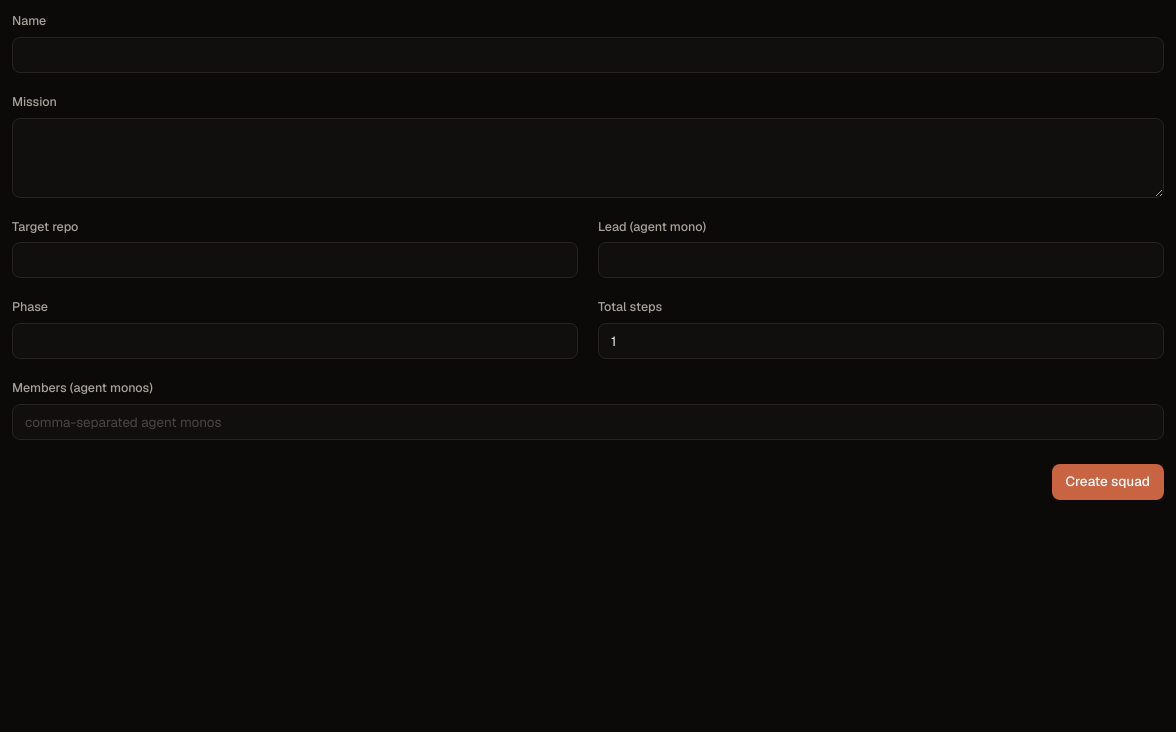
Test: SquadForm › blocks submission and shows an error when a required field is empty
Type "A mission." into the text box labelled "Mission" at (588, 158), box [12, 118, 1164, 198]
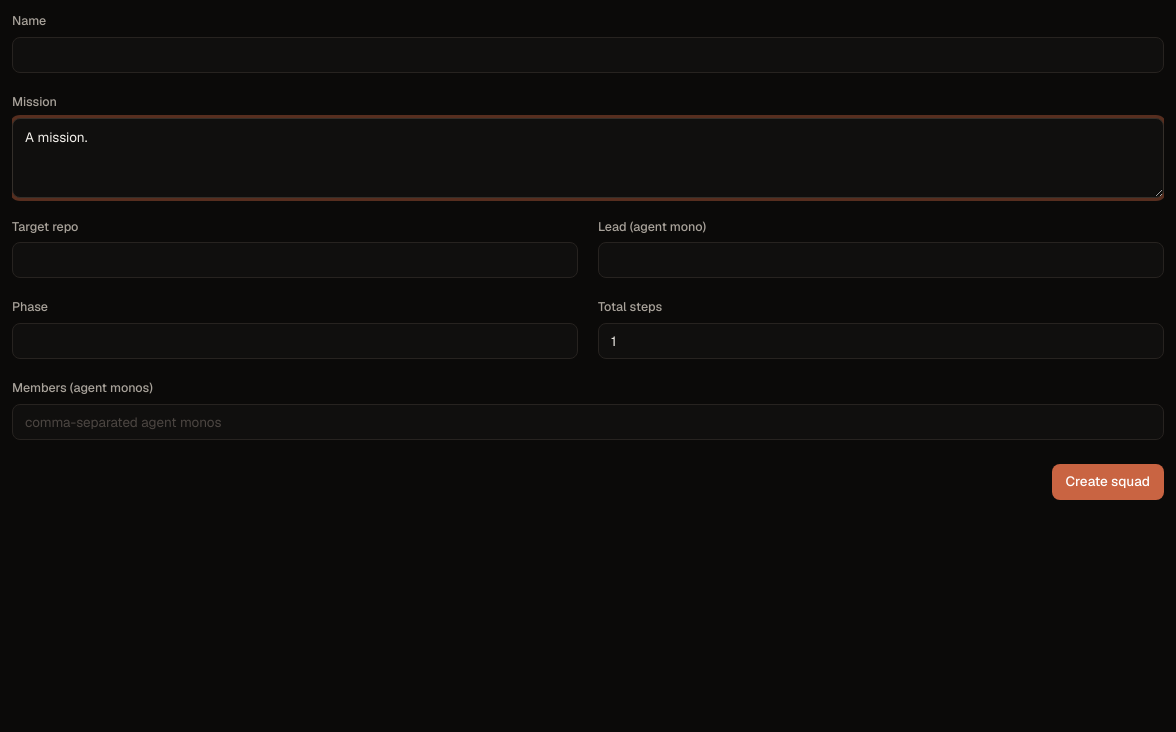
Click the button "Create squad" at (1108, 482), box [1052, 464, 1164, 500]
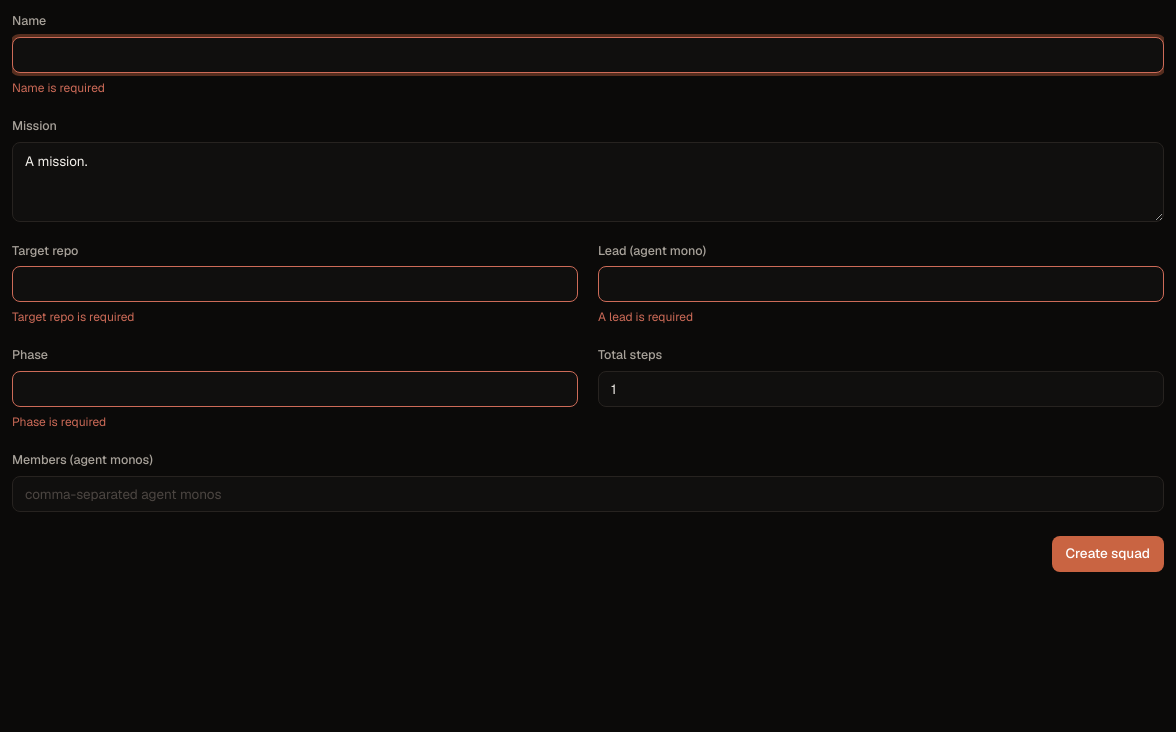
Expected: the text "Name is required" is shown, [12, 80, 105, 96]
